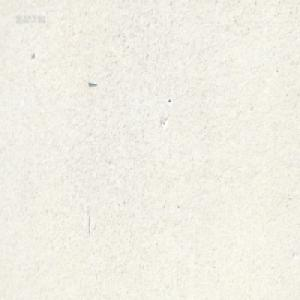Nail: (87, 79, 97, 85)
